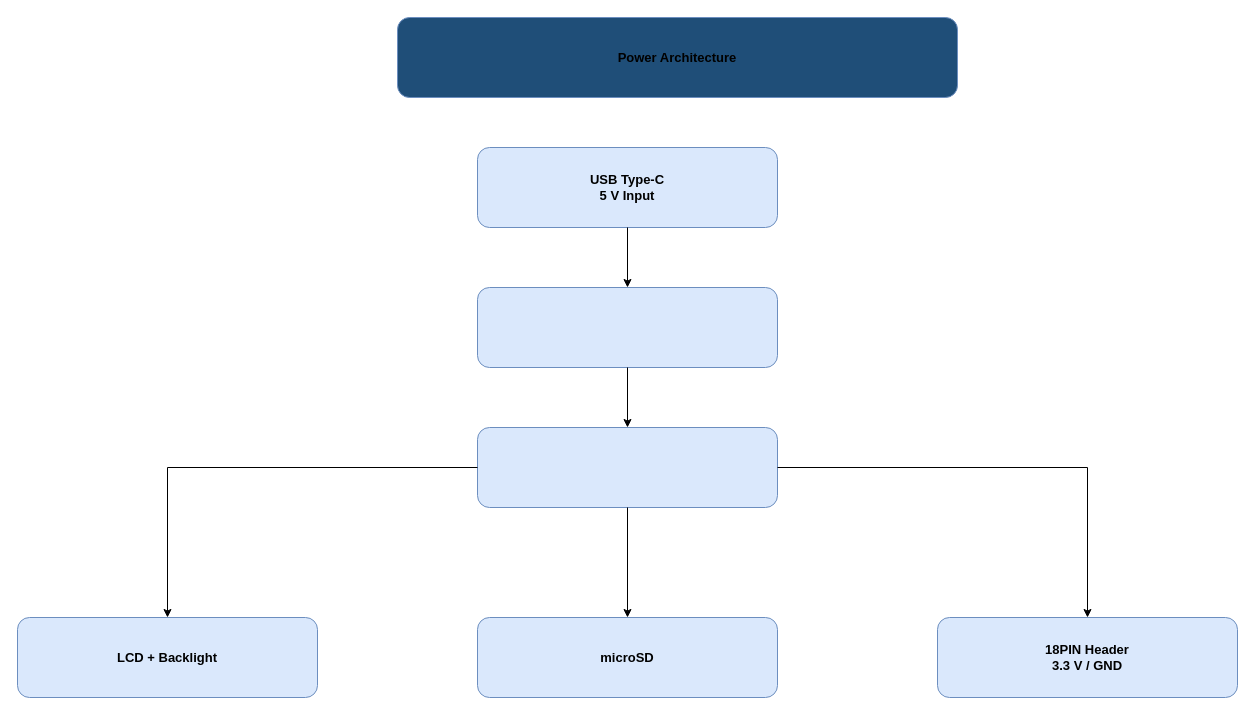
Image size: 1255x715. Some labels were removed from this diagram. The shapes that lost their labels are listed below. From the top down, each one's box as (x1, y1, x2, y2) in pixels, then its label:
(476, 286, 778, 368): Onboard Regulation 3.3 V Rail
(476, 426, 778, 508): ESP32-S3 MCU / Flash / PSRAM
